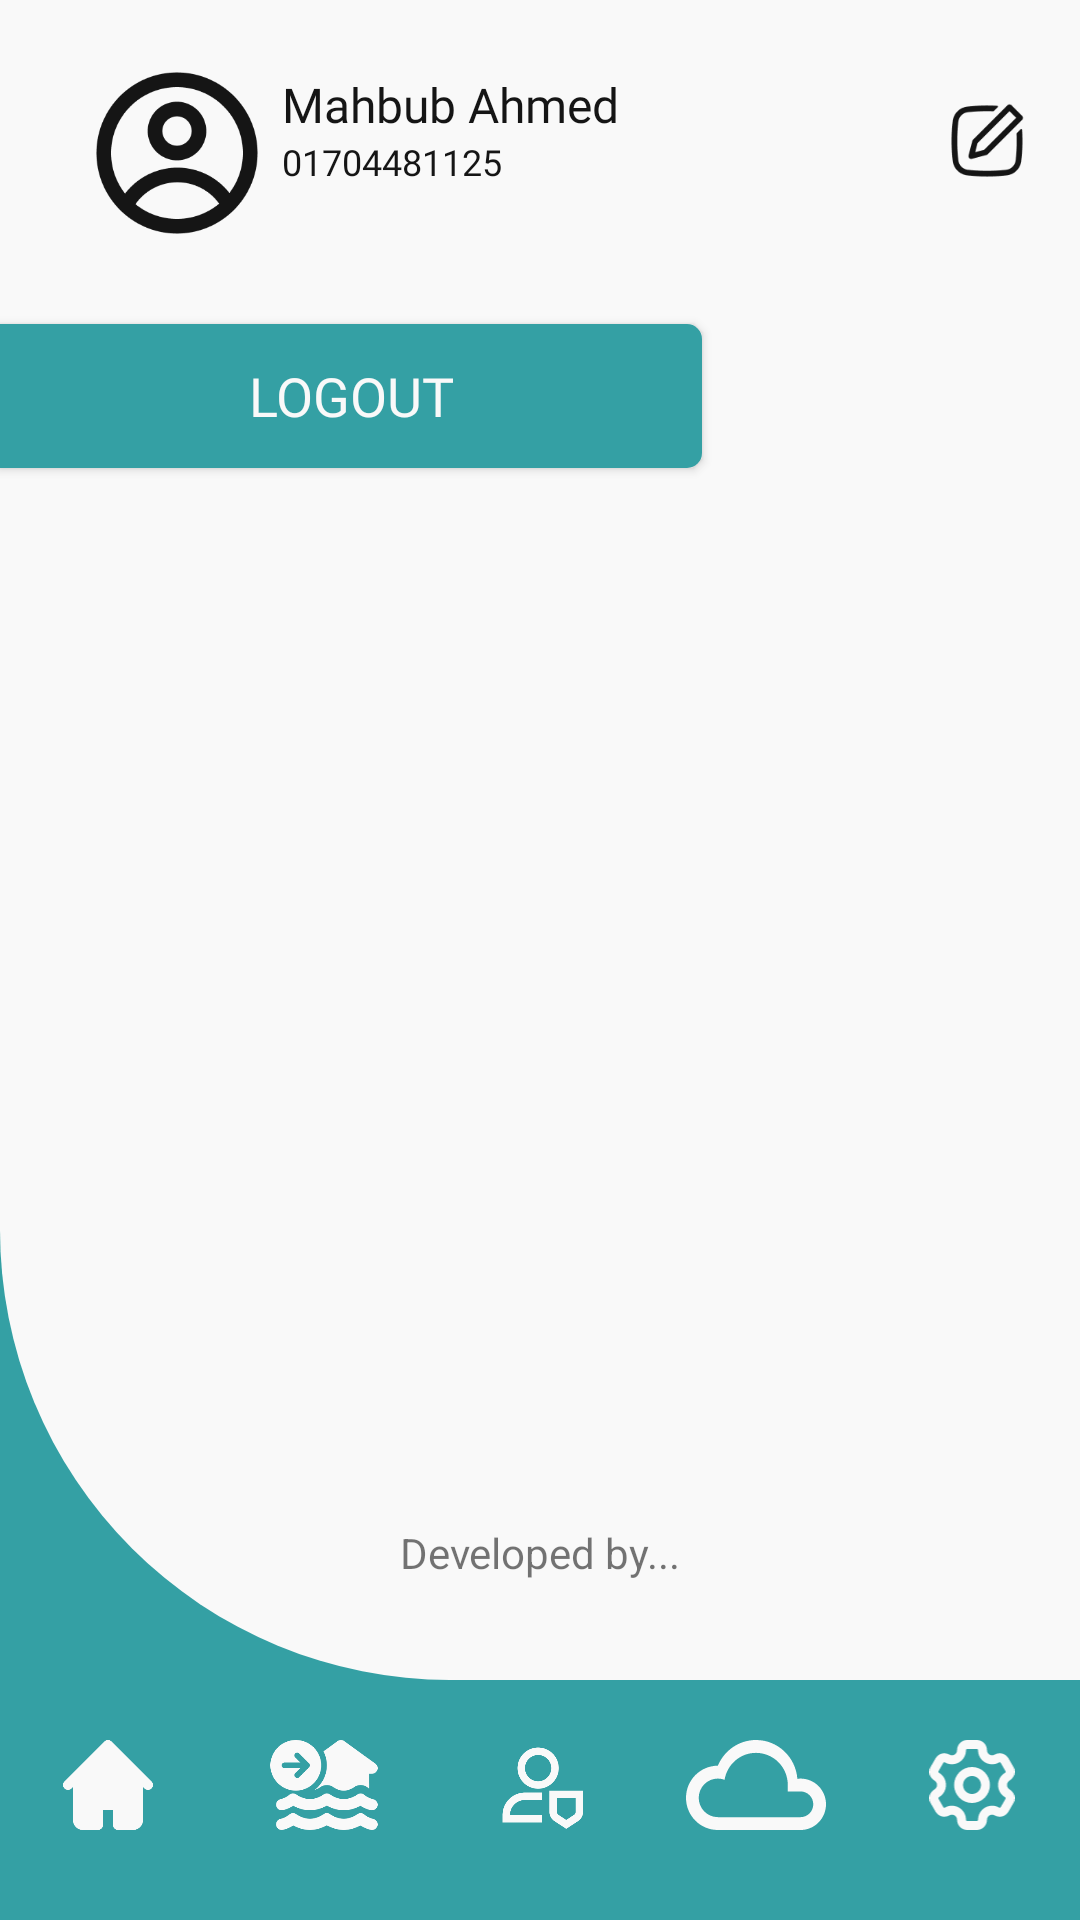

Icons on this 1080*1920 Android screen, each with its box as (x1, y1, x2, y2):
editprofileicon: (951, 104, 1024, 177)
floodhubicon: (270, 1740, 378, 1830)
gearicon: (929, 1740, 1015, 1830)
homeicon: (63, 1740, 153, 1830)
profileicon: (96, 72, 258, 234)
safetyicon: (502, 1747, 583, 1829)
weathericon: (686, 1740, 826, 1830)
